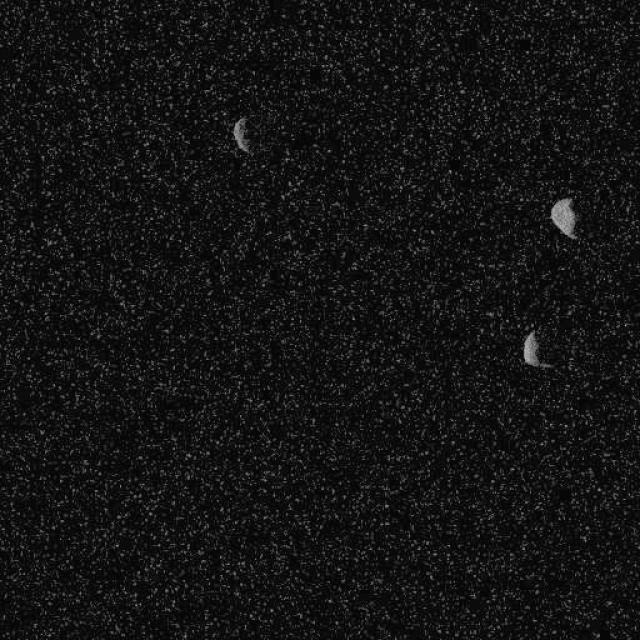D2: (521, 330, 555, 369), (548, 196, 578, 239), (232, 115, 252, 155)
